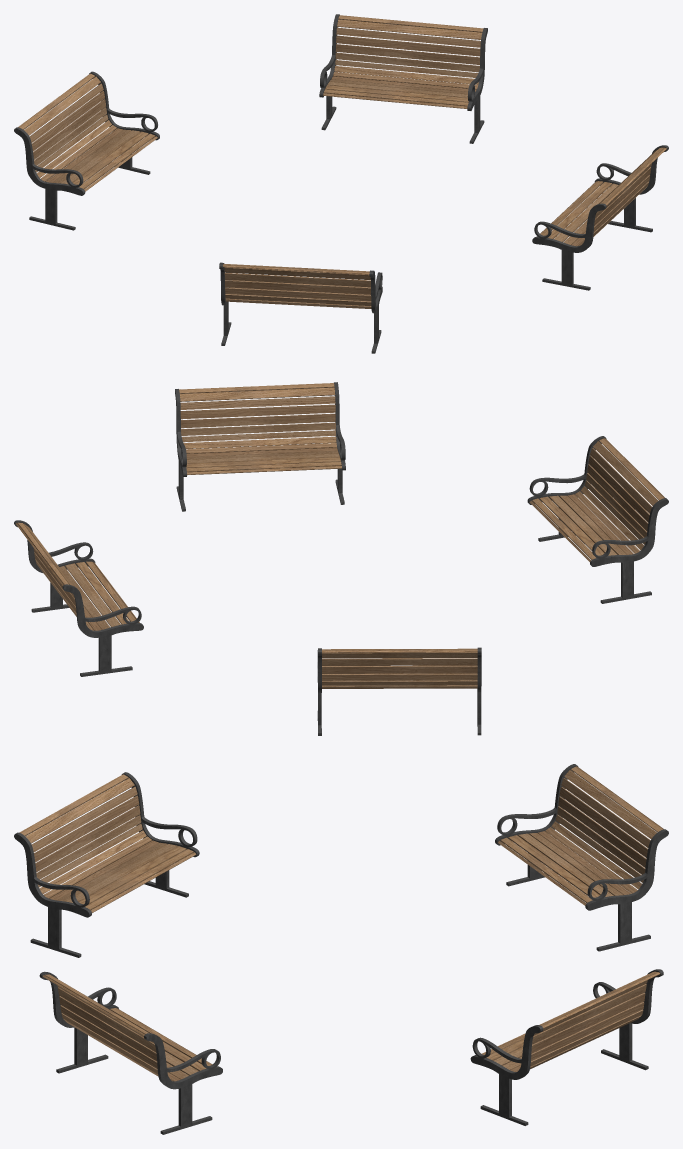
The model's file is Bank.obj.
3 views of the same model, one above another, from view 1: azimuth 30°, elevation 25°; view 2: azimuth 150°, elevation 25°; view 3: azimuth 270°, elevation 25° (orthographic). The views are drawn at different scales.
Parts seen in each view (by area): view 1: pasted__pasted__polySurface86 pasted__group7 group8, group8 pasted__polySurface86, pasted__polySurface86 group7, polySurface86; view 2: polySurface86, pasted__polySurface86 group7, group8 pasted__polySurface86, pasted__pasted__polySurface86 pasted__group7 group8; view 3: pasted__polySurface86 group7, group8 pasted__polySurface86, pasted__pasted__polySurface86 pasted__group7 group8, polySurface86.
Part boxes in pixels (x1,y1,x2,y2): pasted__pasted__polySurface86 pasted__group7 group8: (319, 14, 487, 143); group8 pasted__polySurface86: (14, 71, 159, 230); pasted__polySurface86 group7: (219, 262, 382, 353); polySurface86: (532, 145, 668, 290); polySurface86: (175, 382, 345, 511); pasted__polySurface86 group7: (527, 436, 668, 603); group8 pasted__polySurface86: (317, 647, 481, 735); pasted__pasted__polySurface86 pasted__group7 group8: (14, 520, 143, 676); pasted__polySurface86 group7: (14, 772, 199, 957); group8 pasted__polySurface86: (495, 764, 668, 951); pasted__pasted__polySurface86 pasted__group7 group8: (470, 969, 663, 1125); polySurface86: (39, 971, 222, 1134).
Bounding box in the file's own units: 4.59 × 0.8205 × 4.67.
Materials: 8 (8 with a texture image).
